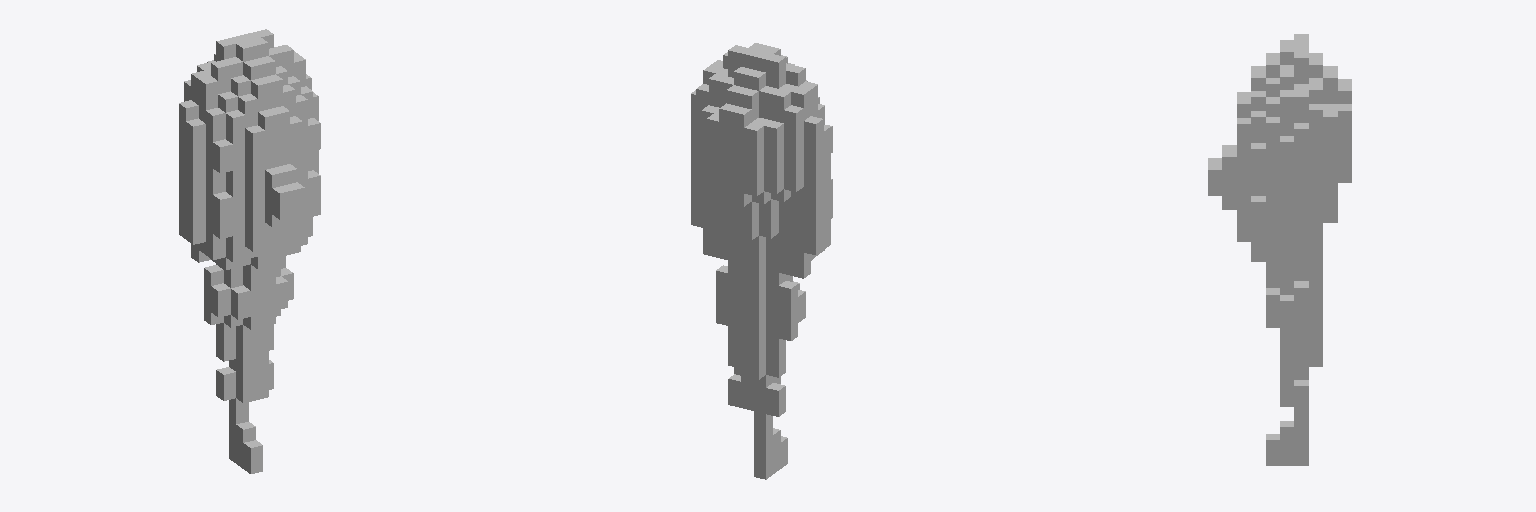
Rendered from Player-2-Body.obj.
The picture shows the model from 3 angles: view 1: azimuth 30°, elevation 25°; view 2: azimuth 150°, elevation 25°; view 3: azimuth 270°, elevation 25°; orthographic projection.
Visible parts, largest first — view 1: Body; view 2: Body; view 3: Body.
Part boxes in pixels (bbox=[...]): Body: bbox=[179, 29, 320, 473]; Body: bbox=[691, 43, 832, 479]; Body: bbox=[1208, 34, 1351, 465].
Bounding box in the file's own units: 10 × 32 × 10.